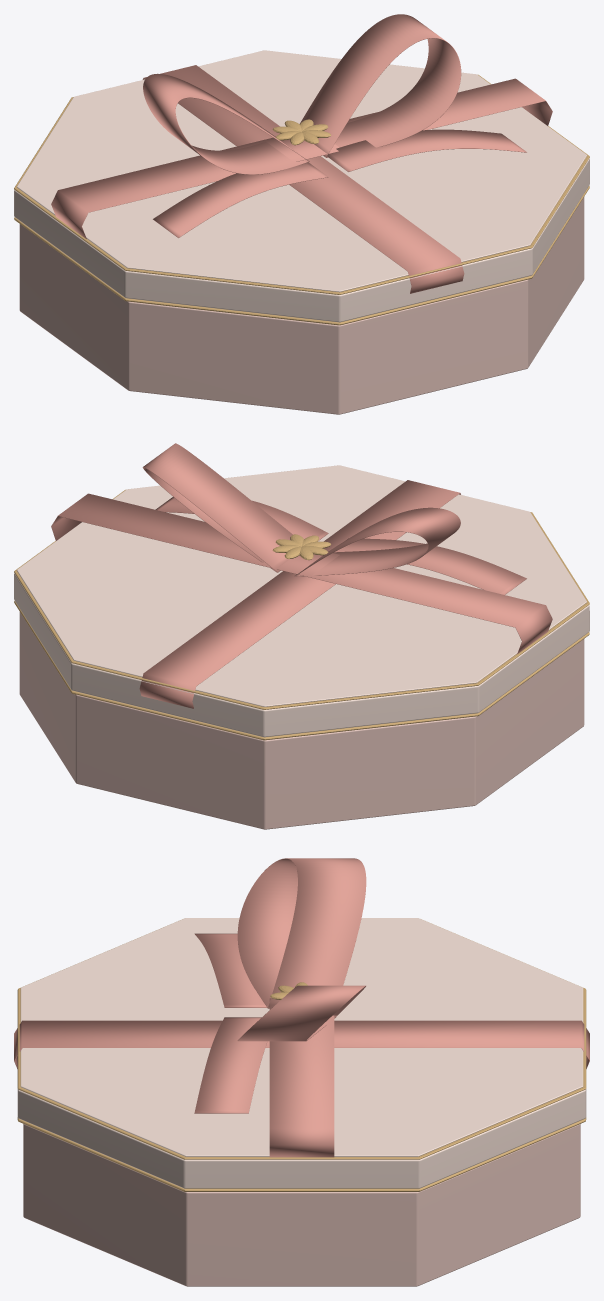
The model's file is boite-3d.glb.
The picture shows the model from 3 angles, top to bottom: view 1: azimuth 30°, elevation 25°; view 2: azimuth 150°, elevation 25°; view 3: azimuth 270°, elevation 25°; orthographic projection. The views are drawn at different scales.
Visible parts, largest first — view 1: Inset lid, Open octagonal box, Lid, Bow loop.001, Wrapping ribbon.001, Wrapping ribbon, Bow loop, Bow tail, Bow tail.001, Top rim, Lid lower rim; view 2: Inset lid, Open octagonal box, Lid, Wrapping ribbon, Wrapping ribbon.001, Bow loop.001, Bow loop, Bow tail, Top rim, Lid lower rim, Bow tail.001; view 3: Inset lid, Open octagonal box, Lid, Bow loop, Wrapping ribbon.001, Wrapping ribbon, Bow tail.001, Bow loop.001, Top rim, Bow tail, Lid lower rim.
Boxes of the visible parts, x1,y1,x2,y2 form: Inset lid: (17,50,586,292); Open octagonal box: (19,197,584,414); Lid: (14,158,589,322); Bow loop.001: (300,14,461,157); Wrapping ribbon.001: (142,65,464,293); Wrapping ribbon: (51,78,552,238); Bow loop: (143,73,309,174); Bow tail: (153,162,328,237); Bow tail.001: (327,129,526,171); Top rim: (14,74,589,294); Lid lower rim: (14,186,589,325); Inset lid: (16,465,586,706); Open octagonal box: (19,612,584,829); Lid: (14,573,589,737); Wrapping ribbon: (51,493,552,653); Wrapping ribbon.001: (139,480,460,708); Bow loop.001: (142,443,292,572); Bow loop: (294,507,460,576); Bow tail: (334,538,526,594); Top rim: (14,489,589,709); Lid lower rim: (14,601,589,740); Bow tail.001: (155,497,328,540); Inset lid: (20,918,583,1156); Open octagonal box: (23,1124,580,1286); Lid: (17,1089,586,1188); Bow loop: (237,858,366,1008); Wrapping ribbon.001: (14,1020,589,1068); Wrapping ribbon: (269,998,334,1157); Bow tail.001: (194,1017,267,1113); Bow loop.001: (237,985,365,1041); Top rim: (17,919,586,1159); Bow tail: (194,933,266,1007); Lid lower rim: (17,1117,586,1191).
Size of the model in its own units: 0.2865 by 0.134 by 0.2865.
